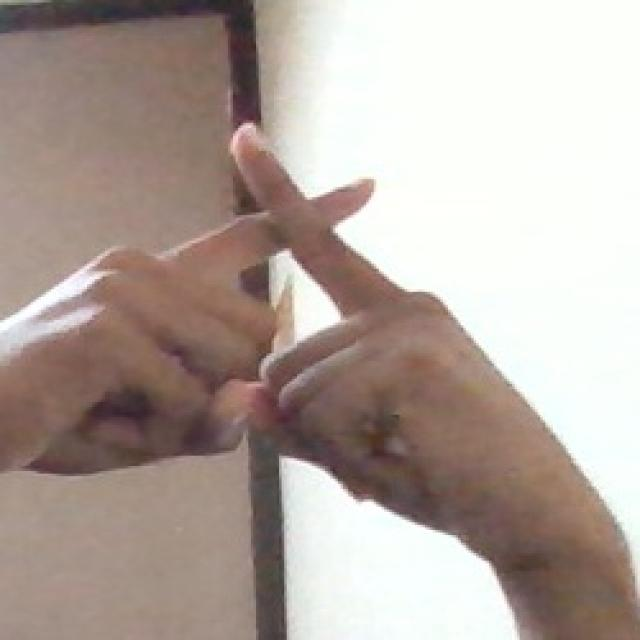Alphabet-X: (5, 128, 560, 523)
